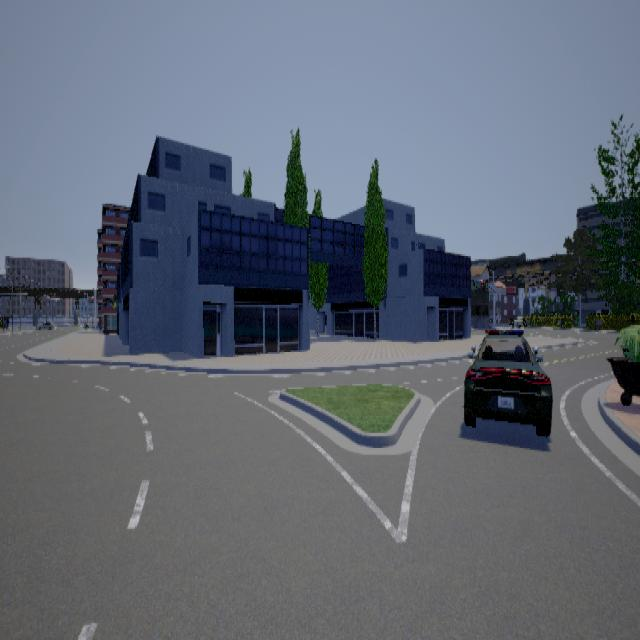vehicle: (463, 328, 552, 436)
